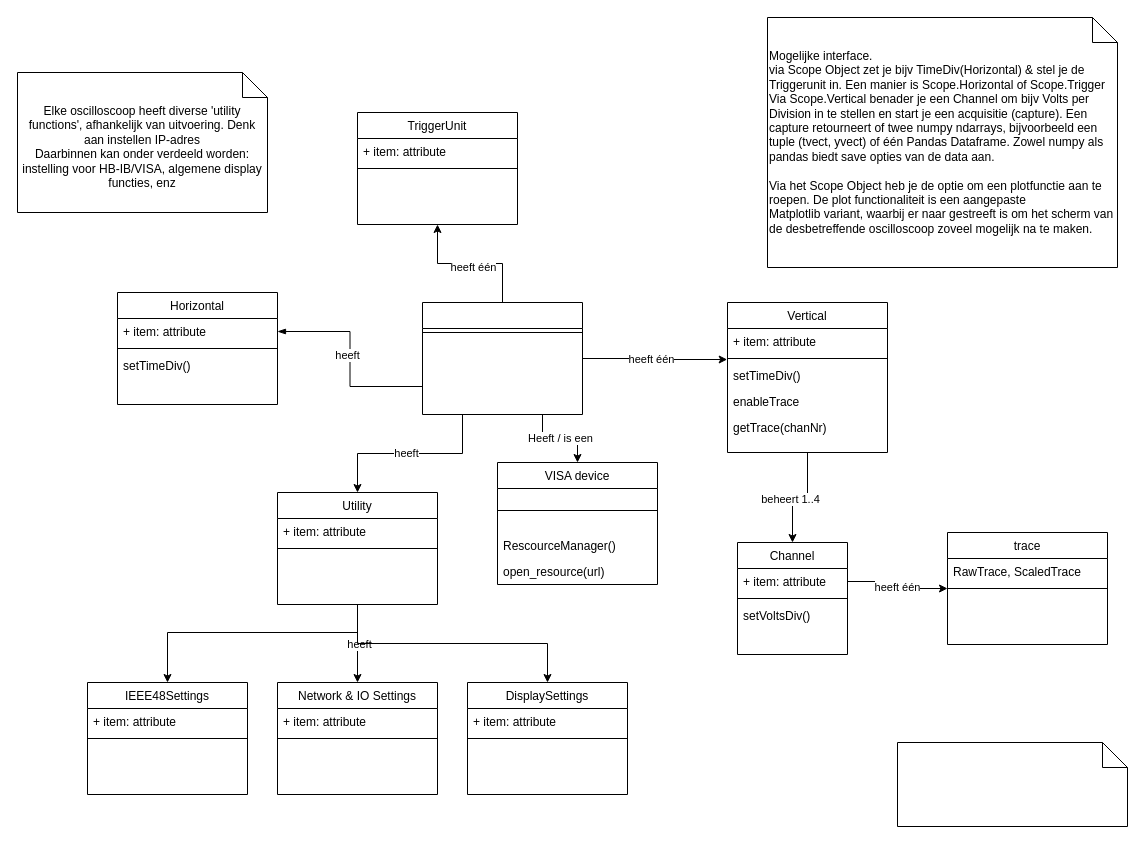
The diagram is 1145 pixels wide and 844 high, and some of its shapes have lost their labels. The centre of each missing label's shape, as x and y in pixels:
Horizontal = Timebase Elke oscilloscoop heeft één timebase: (x=1012, y=784)
Scope: (x=502, y=358)
